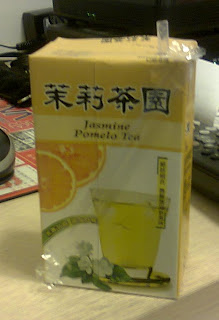鋁箔包: (25, 29, 204, 305)
